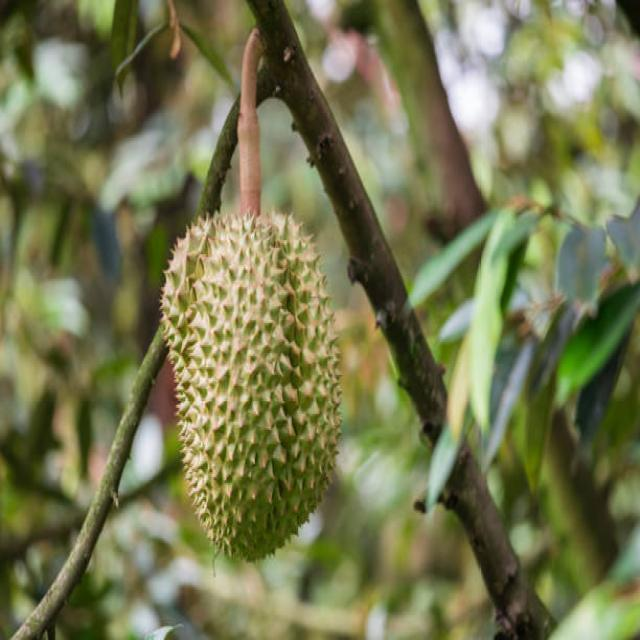mature: (161, 214, 341, 560)
